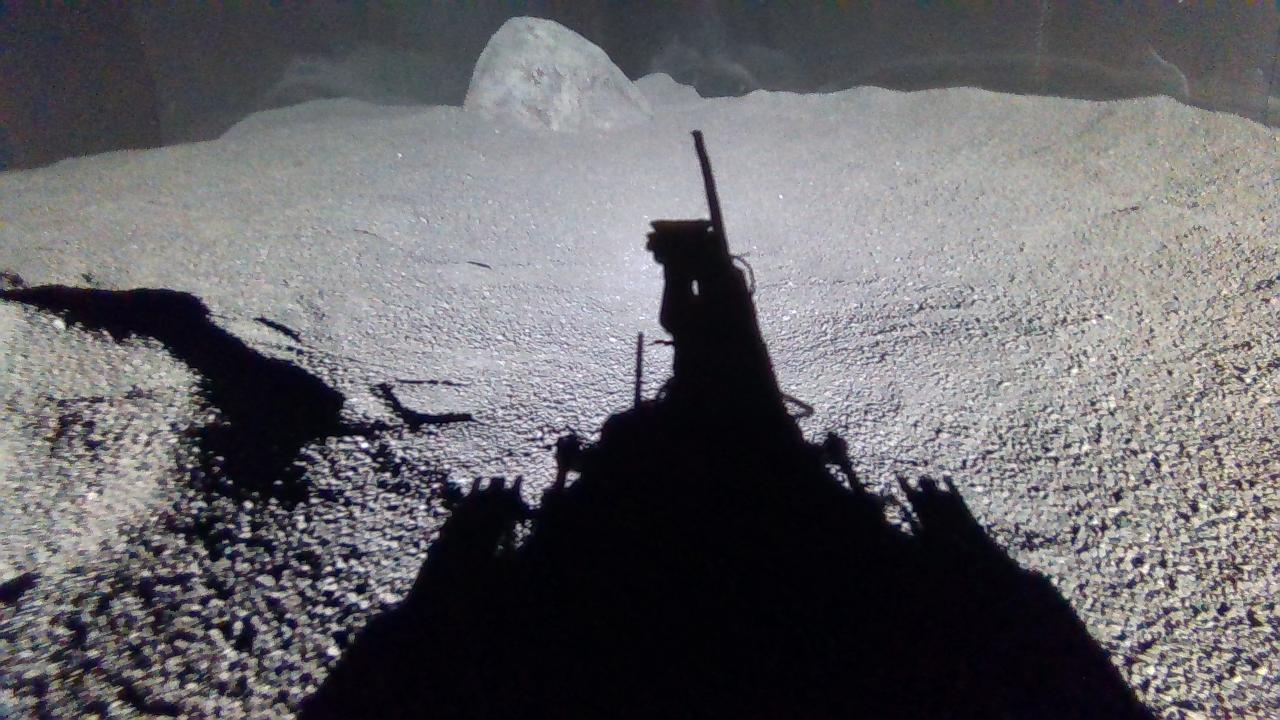rock: (464, 15, 652, 130)
